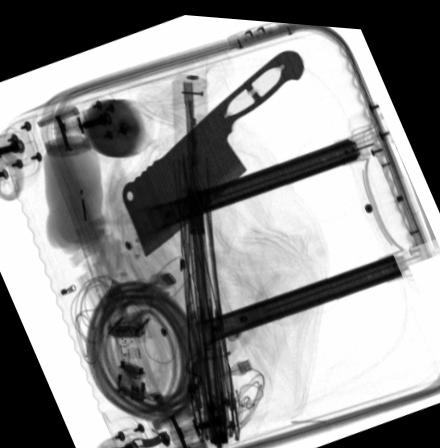Knife: (121, 44, 305, 254)
